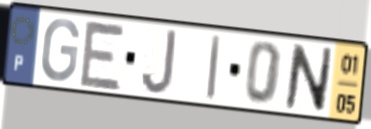0: (243, 38, 283, 108)
E: (77, 17, 128, 94)
G: (39, 17, 82, 84)
I: (204, 32, 223, 104)
J: (139, 27, 179, 97)
N: (282, 41, 335, 115)
